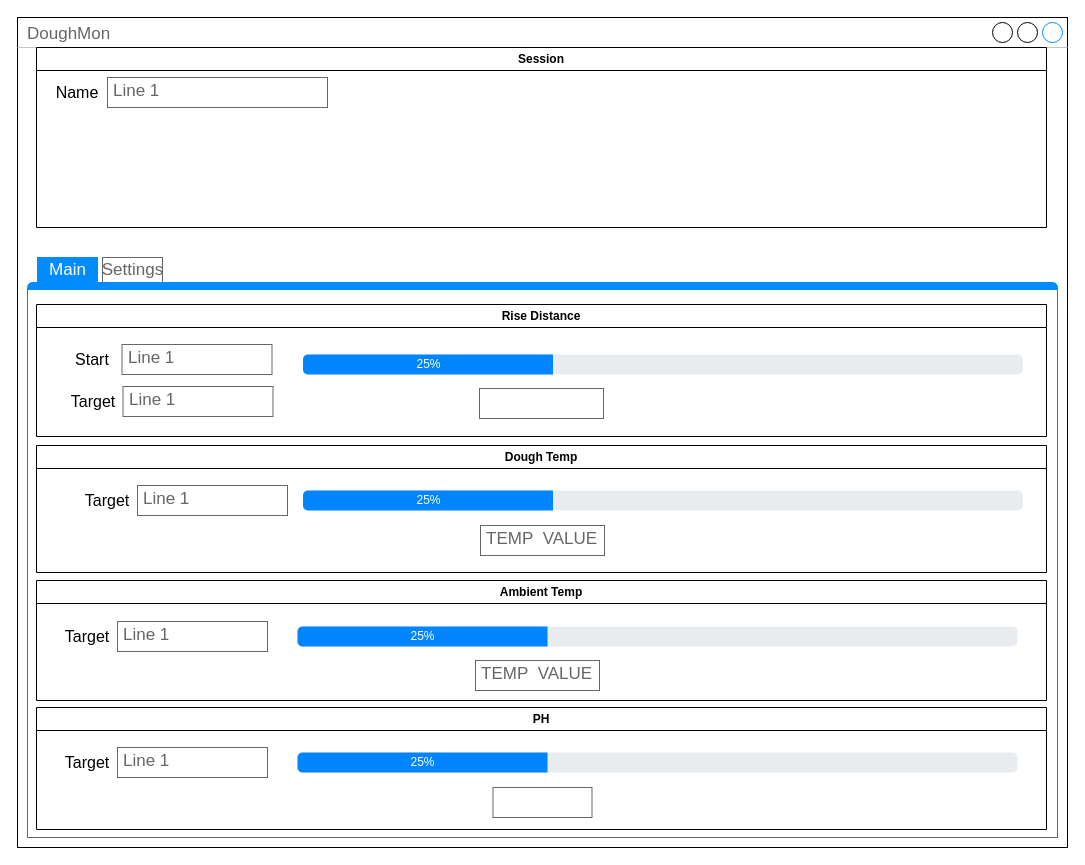
Image size: 1085x865. Some labels were removed from this diagram. The centre of each missing label's shape, as x and y in pixels:
"DIST VALUE" goes at point 541,403.
"PH VALUE" goes at point 542,802.
